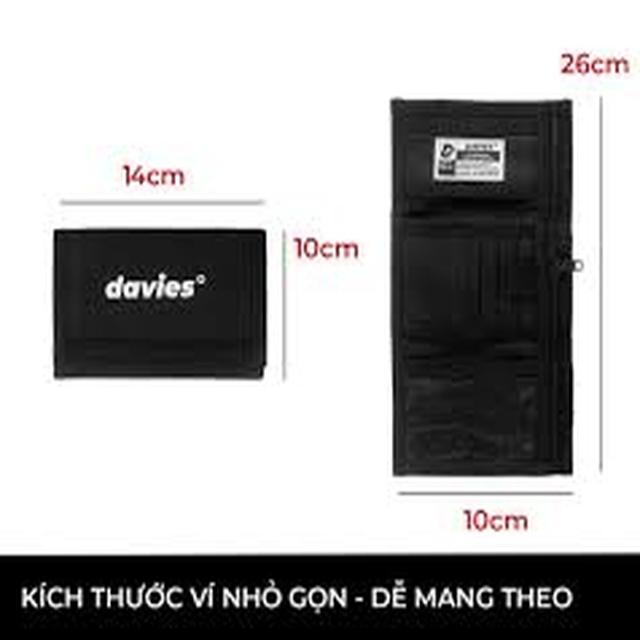wallet: (371, 85, 594, 505), (26, 211, 308, 389)
